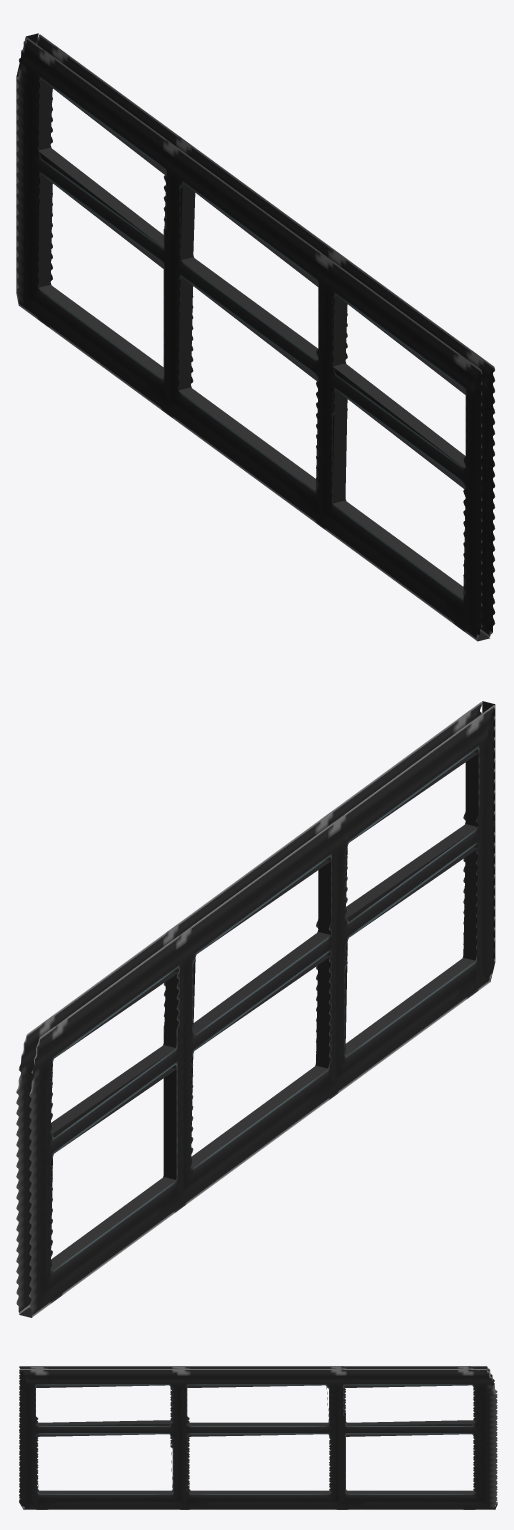
The model's file is pz_native_fixtures_windows_metal_22_frame.obj.
3 renders of one model, top to bottom at view 1: azimuth 30°, elevation 25°; view 2: azimuth 150°, elevation 25°; view 3: azimuth 270°, elevation 25°, orthographic. The views are drawn at different scales.
Parts seen in each view (by area): view 1: pz_native_fixtures_windows_metal_22_frame; view 2: pz_native_fixtures_windows_metal_22_frame; view 3: pz_native_fixtures_windows_metal_22_frame.
Part boxes in pixels (bbox=[...]): pz_native_fixtures_windows_metal_22_frame: bbox=[16, 33, 495, 641]; pz_native_fixtures_windows_metal_22_frame: bbox=[16, 701, 495, 1317]; pz_native_fixtures_windows_metal_22_frame: bbox=[19, 1366, 497, 1509].
Bounding box in the file's own units: 0.04 × 0.875 × 2.54.
1 material, 1 textured.
